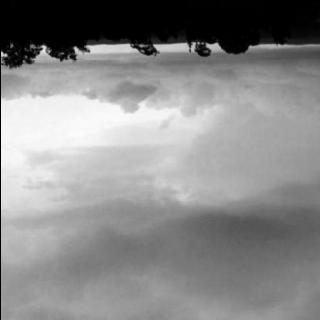Stratocumulus: (0, 48, 320, 320)
